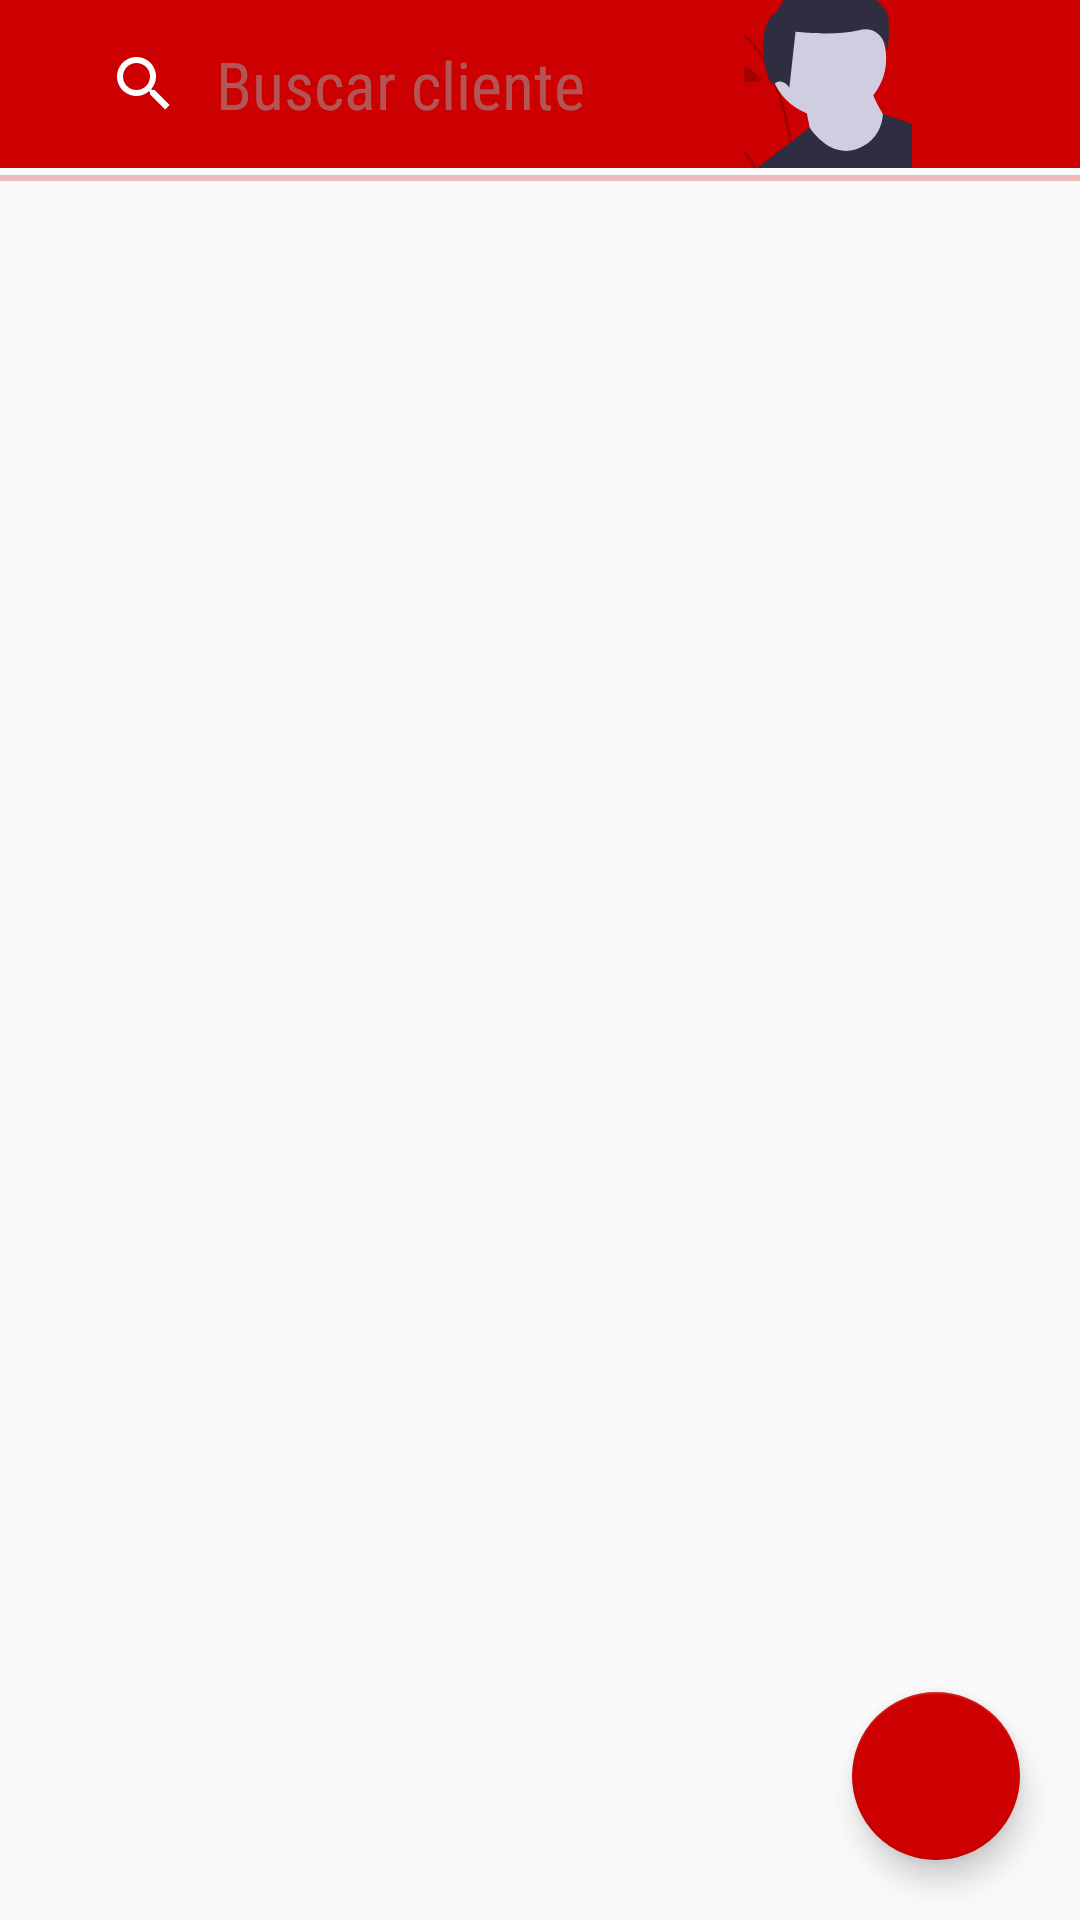

Icons on this 1080 × 1920 Android screen, each with its box as (x1=x1, y1=y1, x2=x2, y2=y2):
person: (x1=744, y1=0, x2=912, y2=168)
